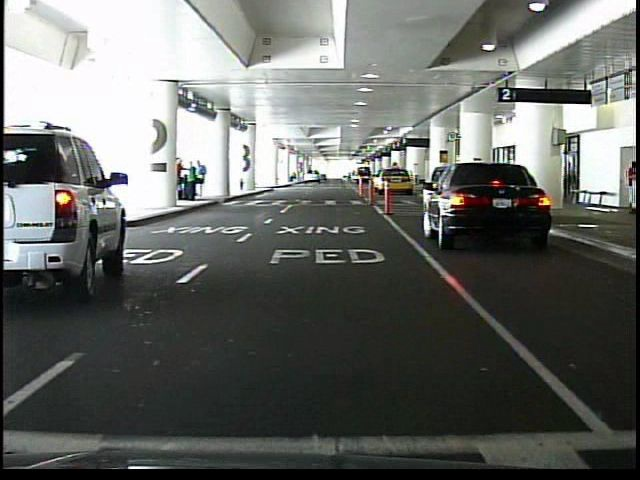person: (623, 162, 637, 216), (185, 160, 198, 202), (196, 160, 208, 199)
